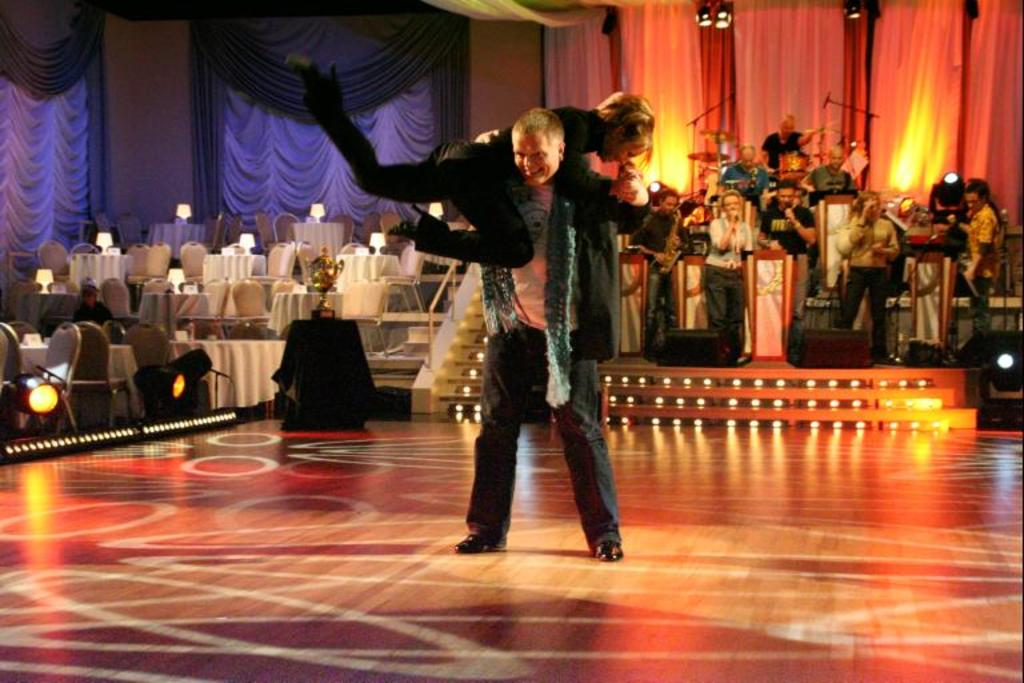Person: (282, 62, 1008, 564), (73, 282, 114, 320)
